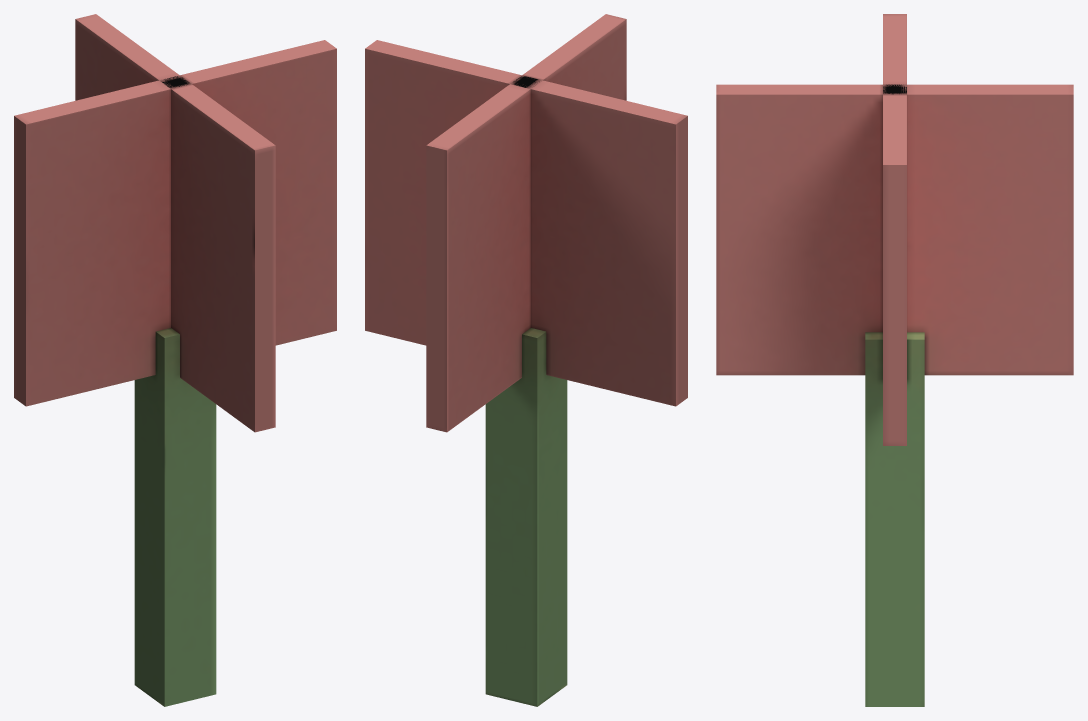
The model's file is flower.glb.
The picture shows the model from 3 angles, left to right: view 1: azimuth 30°, elevation 25°; view 2: azimuth 150°, elevation 25°; view 3: azimuth 270°, elevation 25°; orthographic projection.
Visible parts, largest first — view 1: flower; view 2: flower; view 3: flower.
Boxes of the visible parts, left/top/right/bottom form: flower: left=14, top=14, right=336, bottom=706; flower: left=365, top=14, right=687, bottom=706; flower: left=716, top=14, right=1073, bottom=706.
Size of the model in its own units: 0.3 by 0.56 by 0.3.
2 materials, 2 textured.
